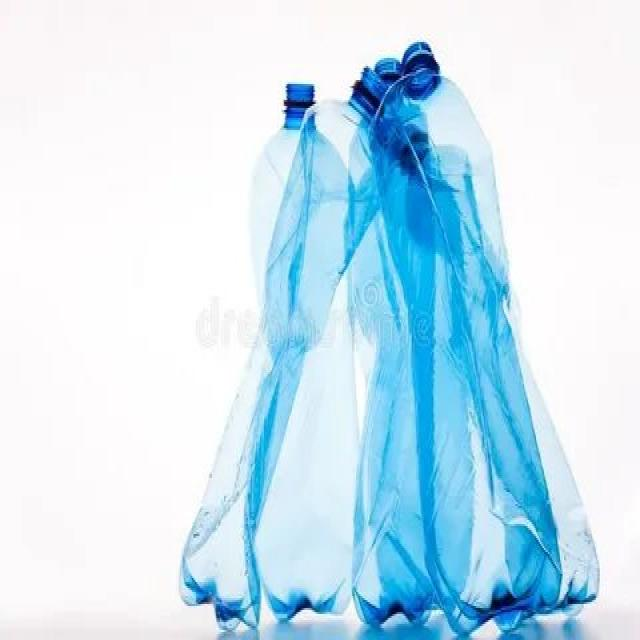blue: (374, 42, 600, 628), (179, 70, 387, 635)
